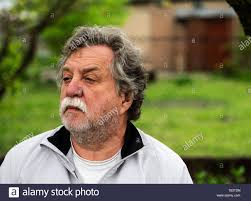white_male: (51, 45, 134, 151)
